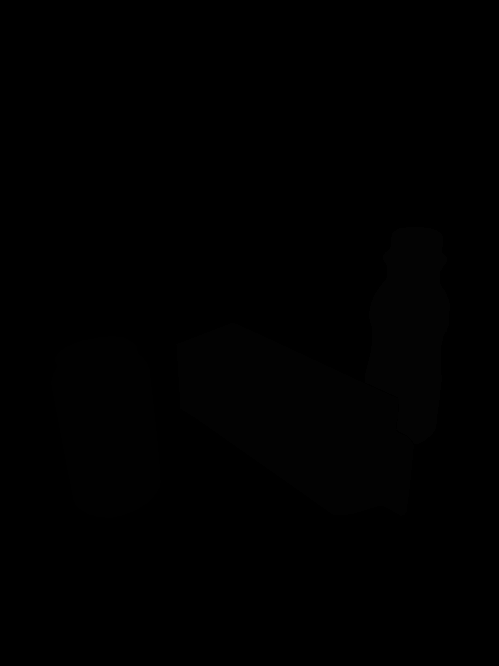can: (47, 333, 165, 525)
carton: (172, 319, 415, 520)
milk_bottle: (362, 225, 452, 446)
